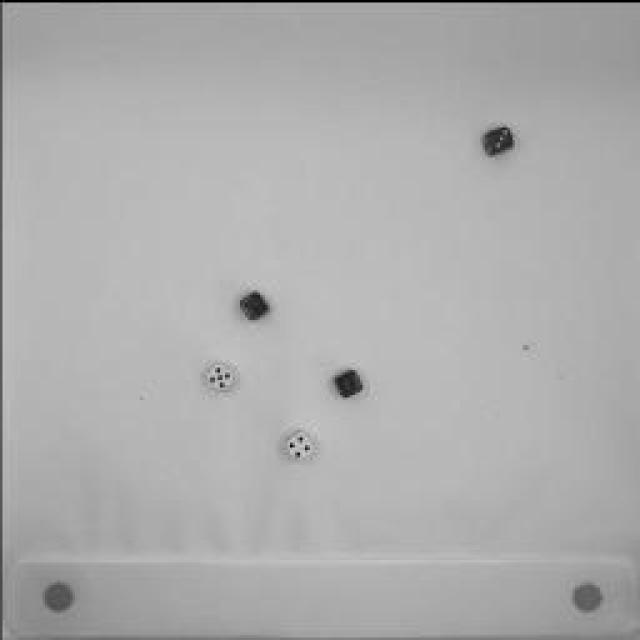dice_1: (331, 364, 361, 398)
dice_3: (236, 278, 269, 324), (480, 124, 515, 156)
dice_4: (283, 428, 315, 462)
dice_5: (195, 362, 235, 396)
